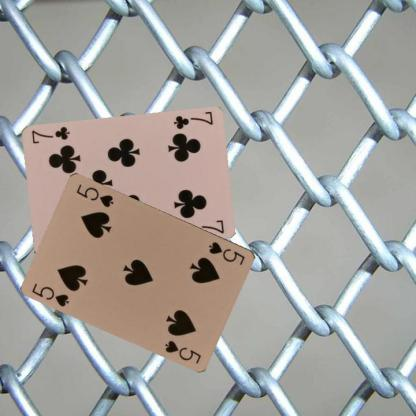5s: (29, 280, 71, 308), (206, 239, 247, 266)
7c: (171, 108, 214, 130)
